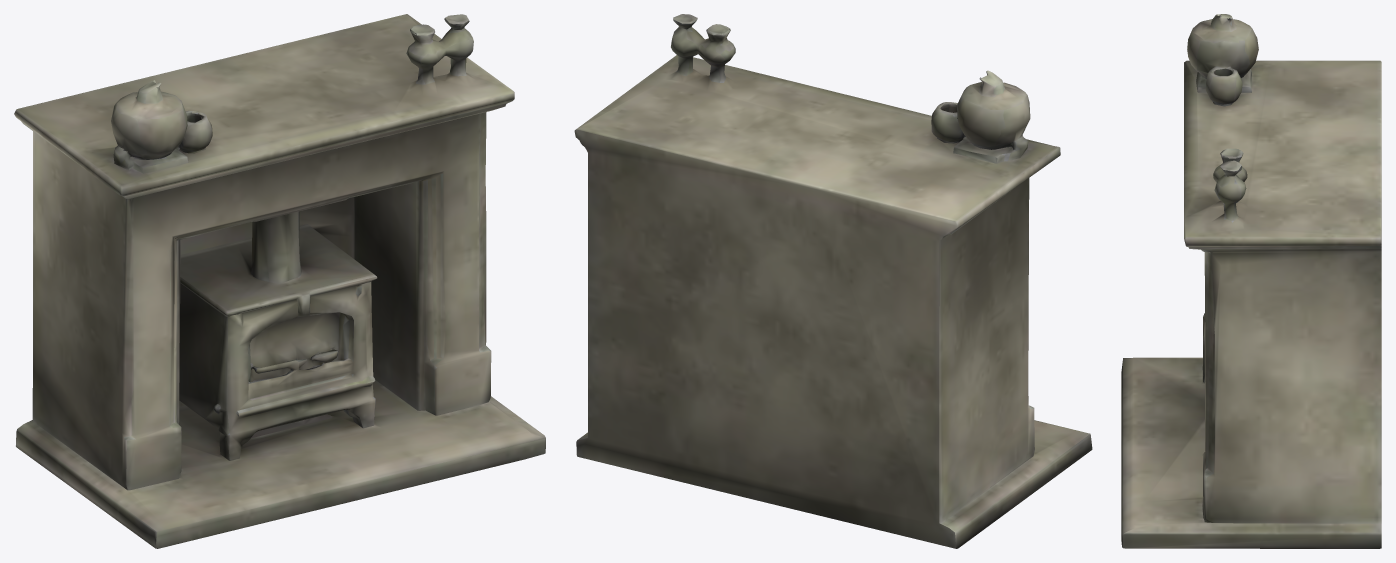
Rendered from sturdy-limestone-fireplace-v001.glb.
3 renders of one model, left to right at view 1: azimuth 30°, elevation 25°; view 2: azimuth 150°, elevation 25°; view 3: azimuth 270°, elevation 25°, orthographic. The views are drawn at different scales.
Visible parts, largest first — view 1: sturdy-limestone-fireplace; view 2: sturdy-limestone-fireplace; view 3: sturdy-limestone-fireplace.
Part boxes in pixels (x1=…): sturdy-limestone-fireplace: x1=14, y1=14, x2=545, y2=548; sturdy-limestone-fireplace: x1=574, y1=14, x2=1092, y2=548; sturdy-limestone-fireplace: x1=1121, y1=14, x2=1381, y2=548.
Bounding box in the file's own units: 2.04 × 2.05 × 1.26.
1 material, 1 textured.
